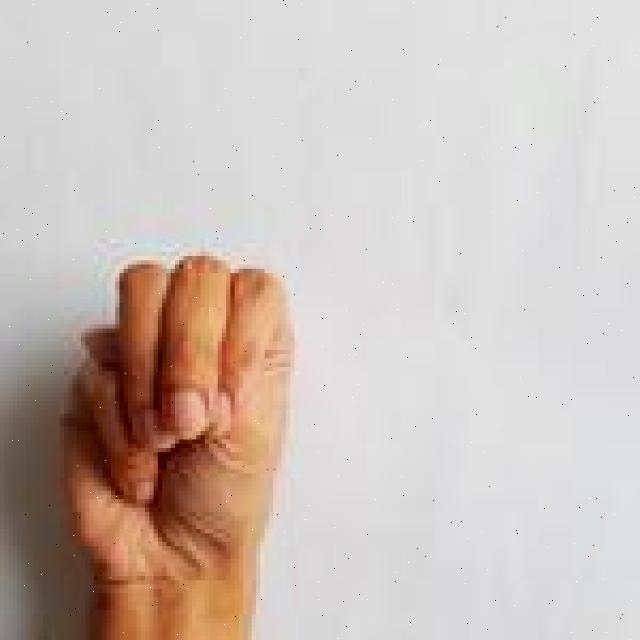M: (41, 246, 302, 640)
